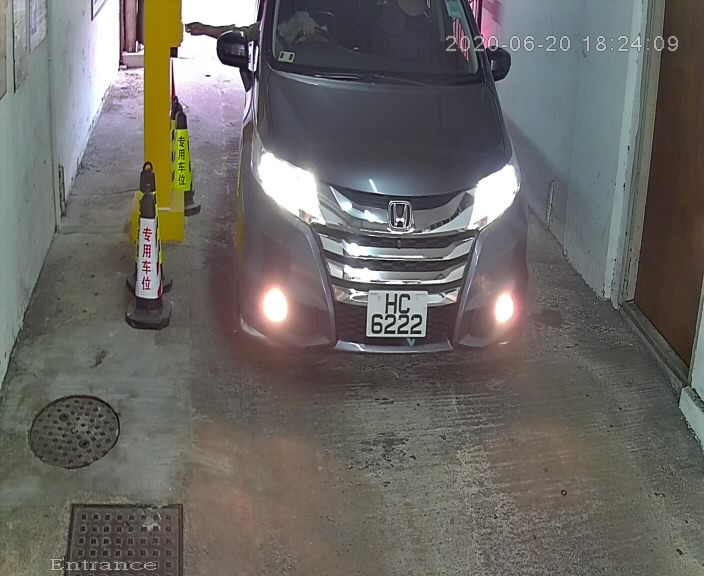privatecar: (212, 1, 547, 397)
